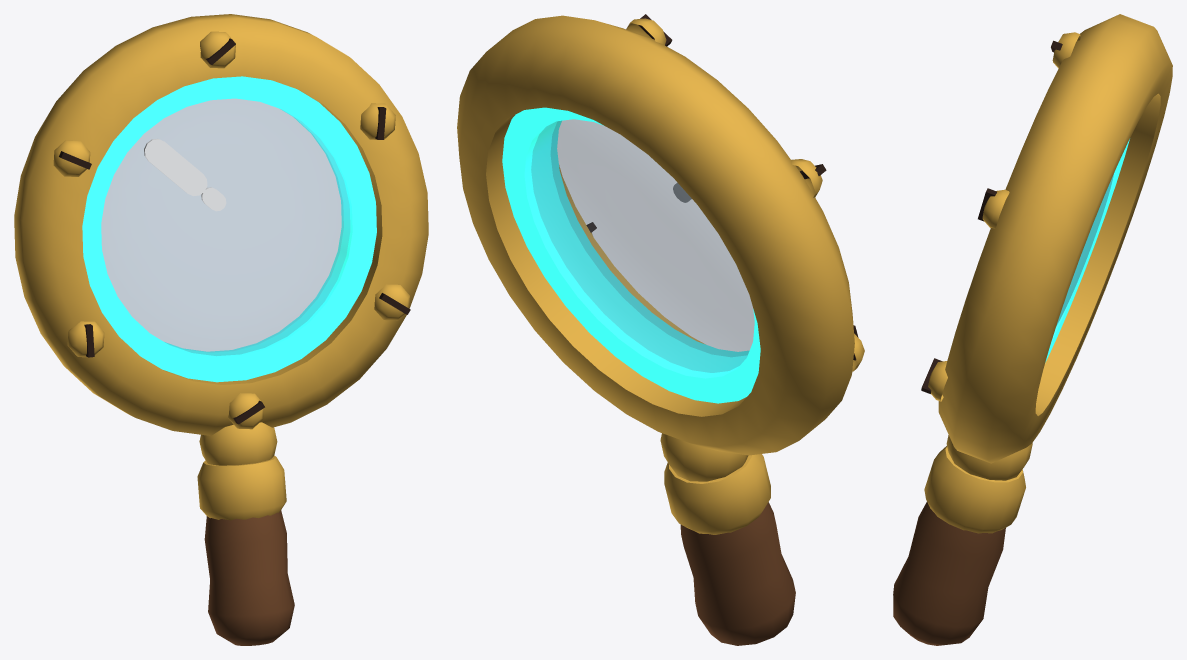
The model's file is item_ley_lens.glb.
3 renders of one model, left to right at view 1: azimuth 30°, elevation 25°; view 2: azimuth 150°, elevation 25°; view 3: azimuth 270°, elevation 25°, orthographic. The views are drawn at different scales.
Visible parts, largest first — view 1: LeyLens; view 2: LeyLens; view 3: LeyLens.
Boxes of the visible parts, <box> form: LeyLens: <box>14,14,428,645</box>; LeyLens: <box>457,14,864,645</box>; LeyLens: <box>893,14,1172,645</box>.
Size of the model in its own units: 0.1823 by 0.2704 by 0.1103.
